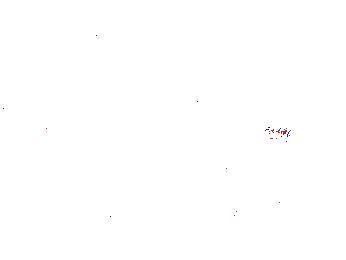X-ray fish: (196, 15, 269, 60)
glassfish: (207, 128, 266, 184), (122, 196, 166, 225)
red belly glassfish: (244, 120, 291, 142)
